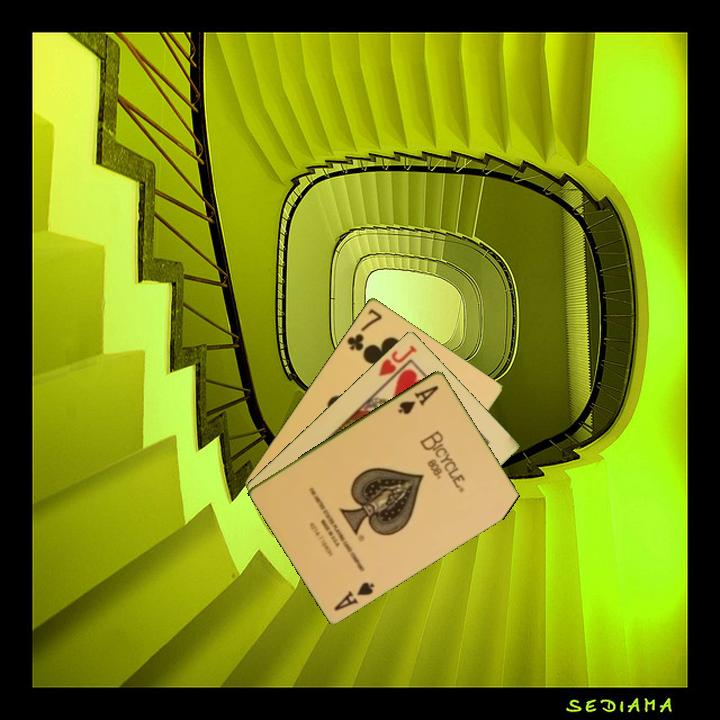7c: (343, 305, 385, 354)
As: (330, 578, 378, 613), (395, 381, 441, 417)
Jh: (375, 341, 420, 388)
